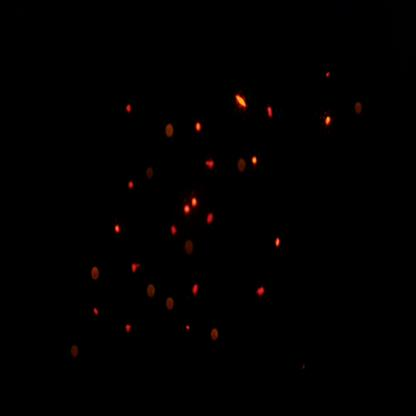PET: (187, 276, 205, 304), (204, 145, 219, 175), (256, 278, 271, 306), (130, 255, 144, 284), (122, 316, 137, 343), (205, 206, 219, 233), (122, 98, 139, 120), (126, 172, 140, 196), (321, 66, 336, 88), (265, 98, 277, 123), (169, 222, 181, 244), (184, 319, 195, 338), (92, 303, 102, 320)
PS: (209, 322, 223, 348), (353, 98, 367, 122), (164, 121, 177, 144), (184, 237, 197, 260), (165, 293, 178, 316), (237, 155, 249, 178), (146, 282, 158, 305), (91, 264, 103, 286), (69, 340, 81, 362), (145, 164, 156, 185)
PVC: (233, 88, 252, 118), (273, 233, 285, 255), (323, 110, 335, 130), (113, 222, 124, 242), (251, 152, 260, 170), (193, 121, 205, 134), (183, 202, 192, 218), (191, 195, 200, 210)
